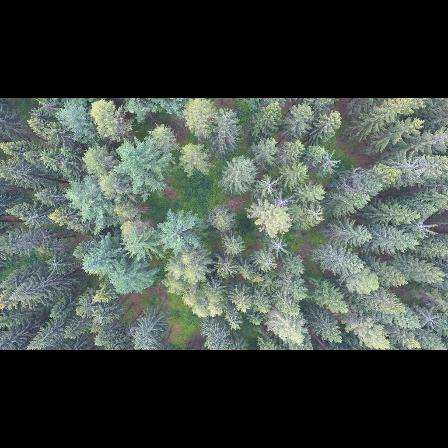Sick: (418, 305, 444, 336), (264, 235, 294, 259), (44, 256, 74, 276), (412, 216, 435, 240), (271, 192, 292, 215)
